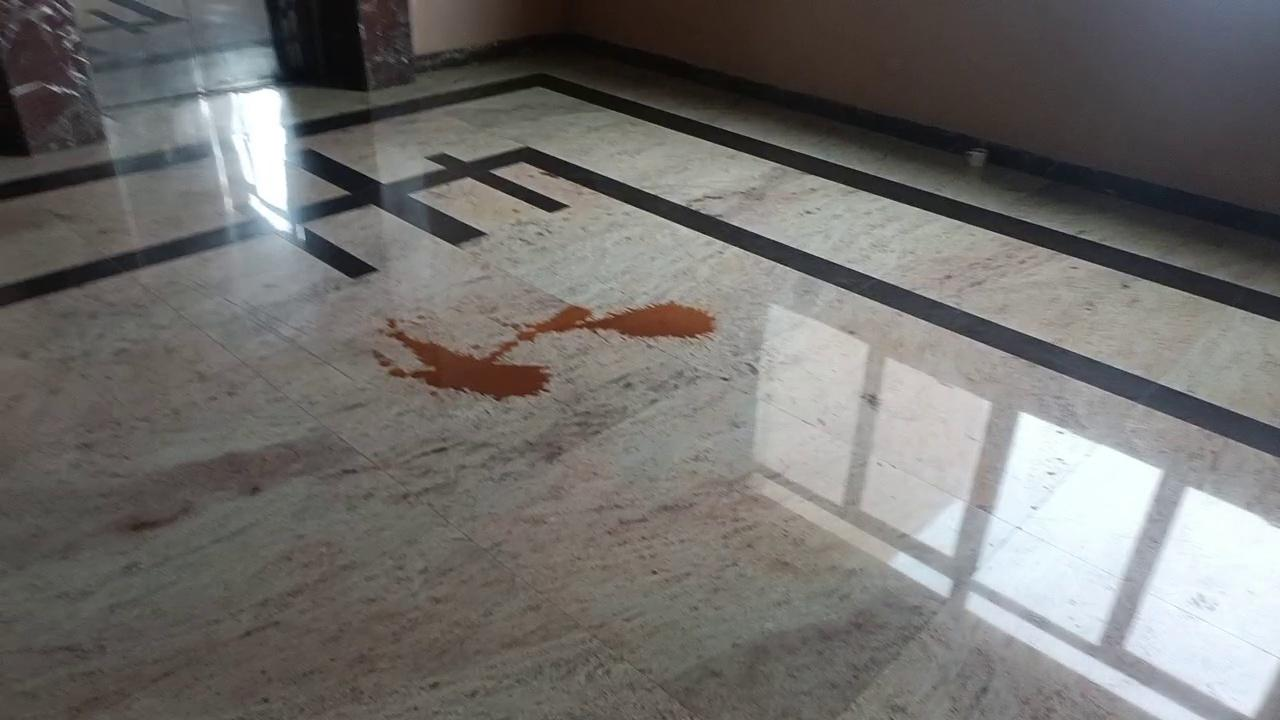dirty_floor: (389, 290, 720, 401)
